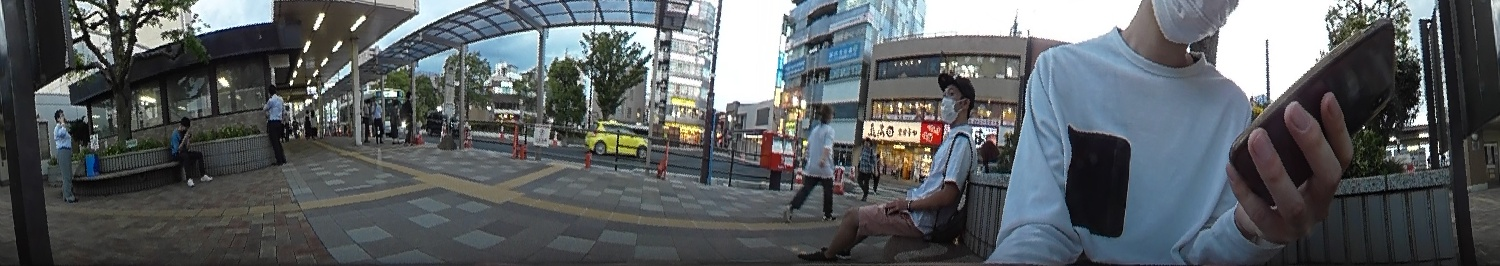difficult_person: (855, 138, 874, 204), (371, 91, 385, 142), (402, 89, 415, 143), (359, 96, 372, 144), (387, 95, 399, 140), (872, 152, 883, 190), (308, 106, 319, 141), (282, 101, 289, 142), (301, 109, 311, 136)
person: (793, 72, 982, 265), (779, 103, 843, 222), (168, 117, 211, 187), (259, 85, 290, 168), (52, 109, 79, 203)
